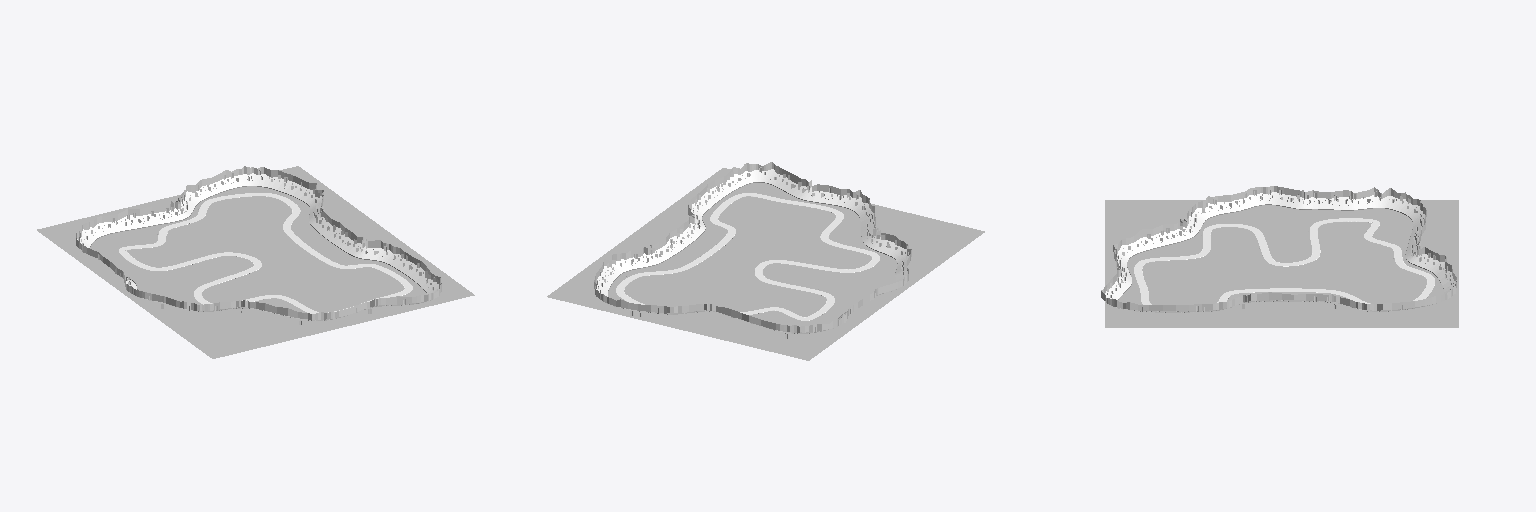
3 renders of one model, left to right at view 1: azimuth 30°, elevation 25°; view 2: azimuth 150°, elevation 25°; view 3: azimuth 270°, elevation 25°, orthographic.
Parts seen in each view (by area): view 1: Plane, RaceTrack_Wall, RaceTrack_Main, RaceTrack_Trees; view 2: Plane, RaceTrack_Wall, RaceTrack_Main, RaceTrack_Trees; view 3: Plane, RaceTrack_Wall, RaceTrack_Main, RaceTrack_Trees.
Boxes of the visible parts, <box> form: Plane: <box>37,166,474,358</box>; RaceTrack_Wall: <box>76,166,441,320</box>; RaceTrack_Main: <box>119,193,412,313</box>; RaceTrack_Trees: <box>78,170,438,324</box>; Plane: <box>547,168,984,360</box>; RaceTrack_Wall: <box>594,162,911,333</box>; RaceTrack_Main: <box>616,193,879,320</box>; RaceTrack_Trees: <box>596,167,909,338</box>; Plane: <box>1105,200,1458,327</box>; RaceTrack_Wall: <box>1101,186,1456,312</box>; RaceTrack_Main: <box>1134,218,1434,304</box>; RaceTrack_Trees: <box>1107,190,1456,312</box>.
Size of the model in its own units: 603 by 35.41 by 709.